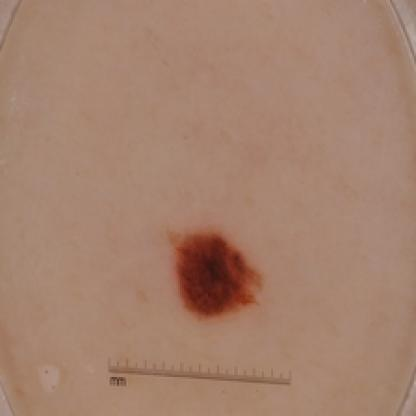malignant: (167, 221, 268, 327)
